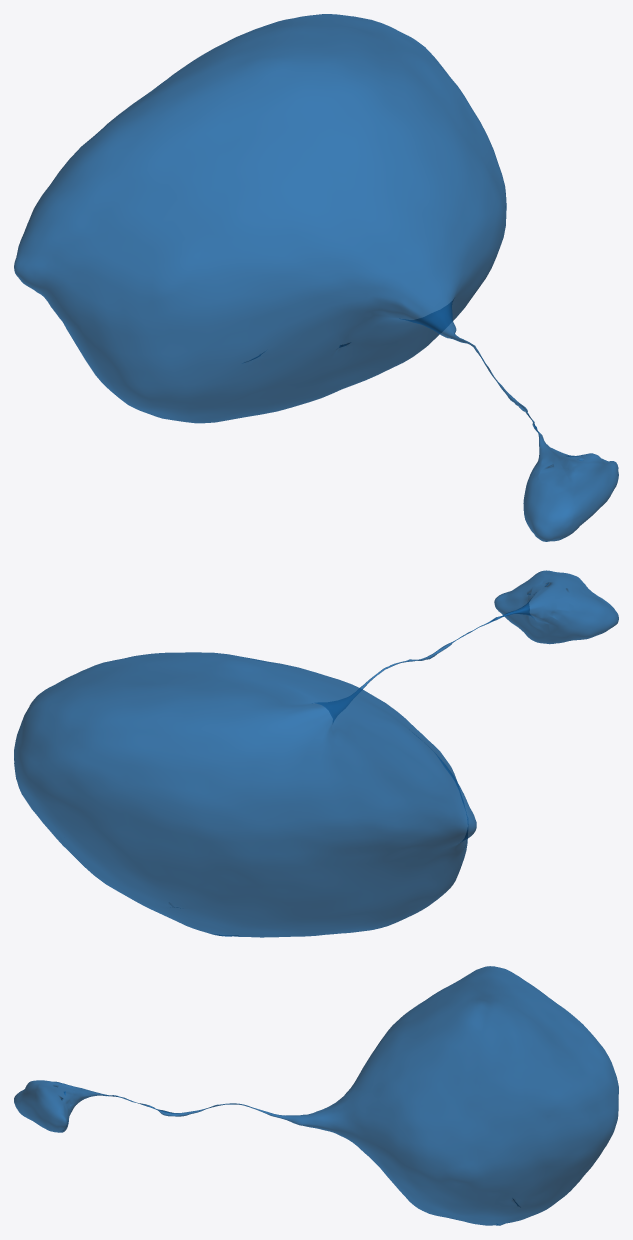
File: spine-1-hr.obj
3 views of the same model, one above another, from view 1: azimuth 30°, elevation 25°; view 2: azimuth 150°, elevation 25°; view 3: azimuth 270°, elevation 25° (orthographic). The views are drawn at different scales.
Parts seen in each view (by area): view 1: spine-1-hr_Cube.174; view 2: spine-1-hr_Cube.174; view 3: spine-1-hr_Cube.174.
Boxes of the visible parts, x1,y1,x2,y2 form: spine-1-hr_Cube.174: (14,14,618,541); spine-1-hr_Cube.174: (14,570,618,937); spine-1-hr_Cube.174: (14,966,618,1225).
Bounding box in the file's own units: 1.45 × 0.8986 × 2.37.
